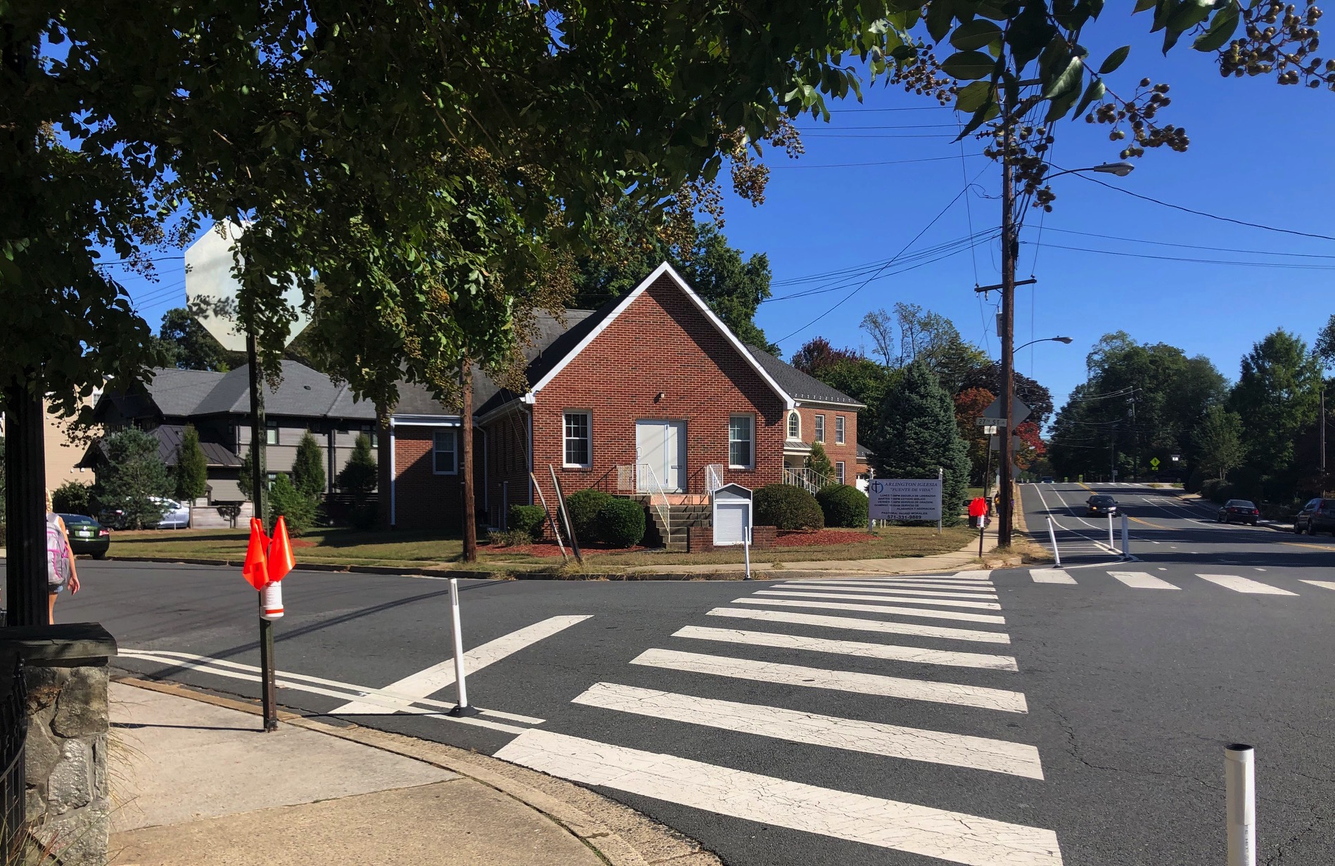Crosswalk: (510, 553, 1069, 866)
